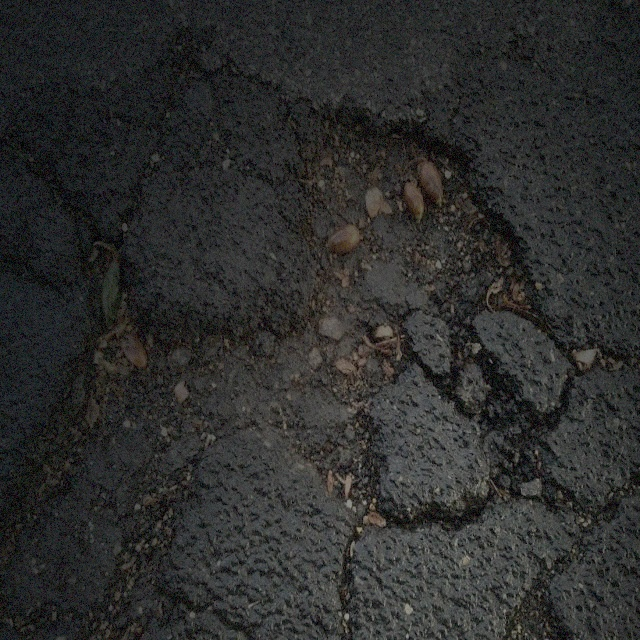pothole: (292, 81, 540, 422), (234, 289, 387, 504)
